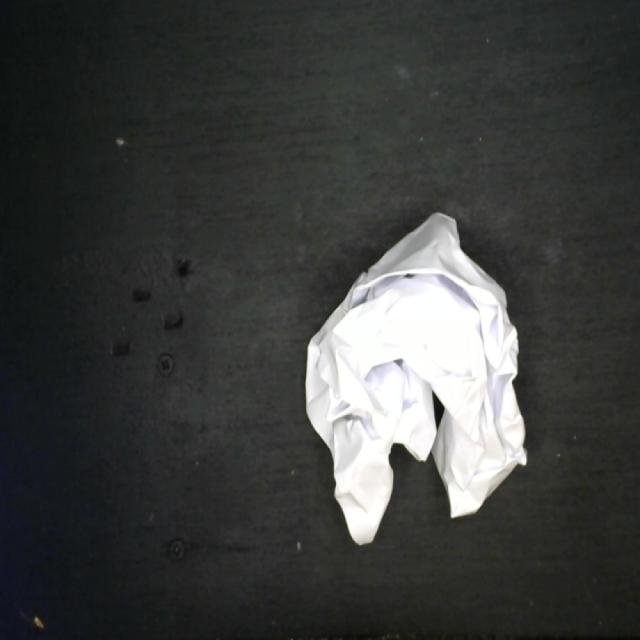biodegradable: (302, 210, 527, 548)
